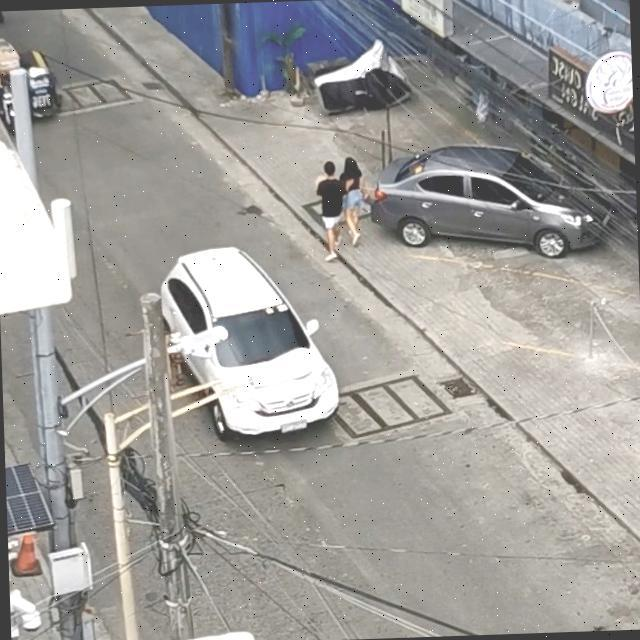Tricycle: (0, 33, 60, 124)
